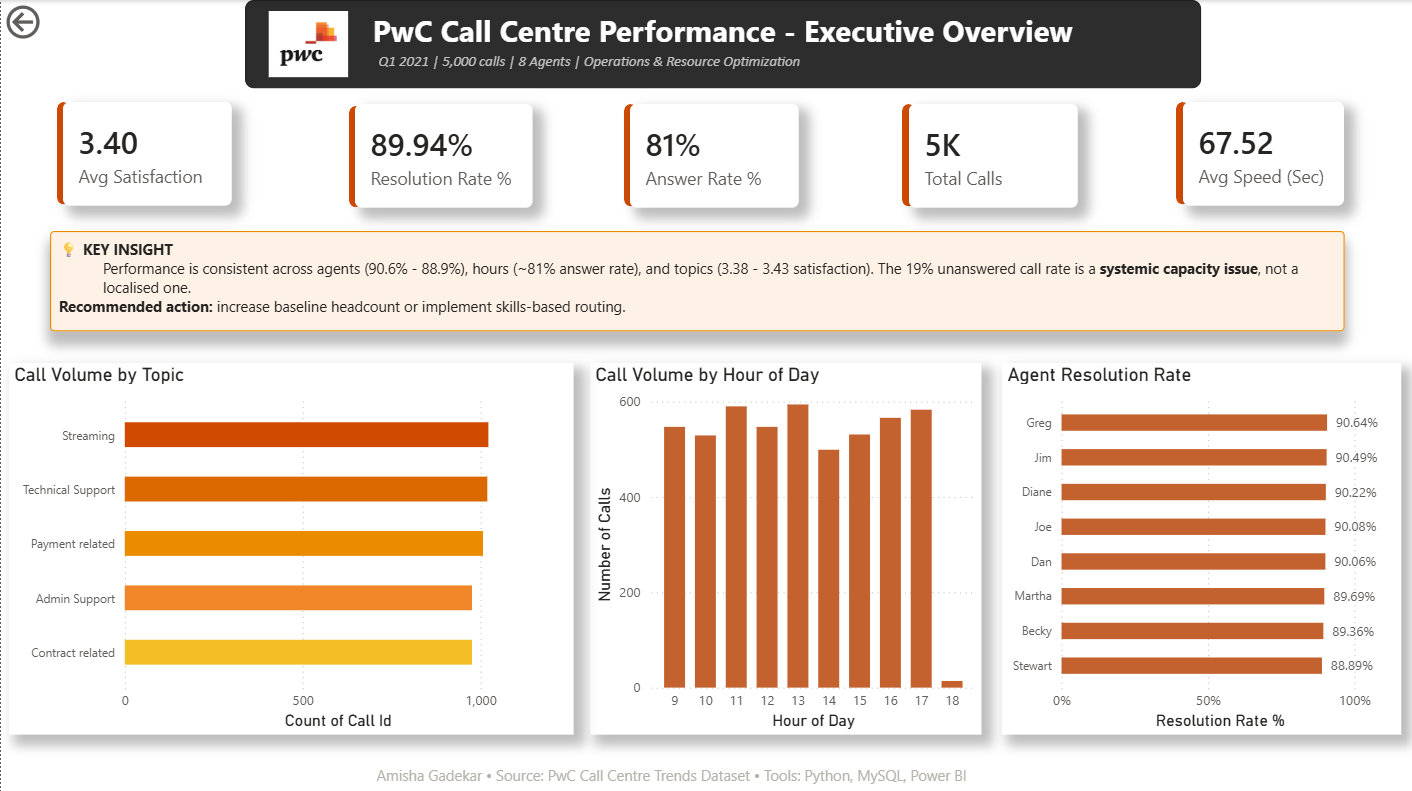

The page's visual inventory and layout, read from the dashboard file:
{"tool":"powerbi","page":{"name":"Executive Overview","canvas":[1280,720],"ordinal":0},"visuals":[{"type":"shape","box":[315.2,96,12.1,91.9],"z":0},{"type":"shape","box":[564.6,93.9,12.1,92.9],"z":1000},{"type":"shape","box":[817.2,93.9,12.1,92.9],"z":2000},{"type":"shape","box":[1065.7,92.9,12.1,92.9],"z":3000},{"type":"shape","box":[50.5,92.9,12.1,93],"z":4000},{"type":"cardVisual","fields":{"Data":["CountNonNull(call_center_cleaned.Call Id)"]},"box":[823.2,93.9,152.5,93.9],"z":5000},{"type":"actionButton","box":[0,0,100,40],"z":6000},{"type":"cardVisual","fields":{"Data":["call_center_cleaned.Answer Rate %"]},"box":[570.7,93.9,152.5,93.9],"z":7000},{"type":"cardVisual","fields":{"Data":["call_center_cleaned.Resolution Rate %"]},"box":[321.2,93.9,160.6,93.9],"z":8000},{"type":"cardVisual","fields":{"Data":["Avg(call_center_cleaned.Satisfaction rating)"]},"box":[56.6,92.9,152.5,93.9],"z":9000},{"type":"cardVisual","fields":{"Data":["Avg(call_center_cleaned.Speed of answer in seconds)"]},"box":[1071.7,92.9,146.5,93.9],"z":10000},{"type":"columnChart","title":"Call Volume by Hour of  Day","fields":{"Category":["call_center_cleaned.call_hour"],"Y":["CountNonNull(call_center_cleaned.Call Id)"]},"box":[534.3,329.3,354.5,337.4],"z":11000},{"type":"barChart","title":"Call Volume by Topic","fields":{"Category":["call_center_cleaned.Topic"],"Y":["CountNonNull(call_center_cleaned.Call Id)"]},"box":[7.1,329.3,512.1,337.4],"z":12000},{"type":"barChart","title":"Agent Resolution Rate","fields":{"Category":["call_center_cleaned.Agent"],"Y":["call_center_cleaned.Resolution Rate %"]},"box":[908.1,329.3,361.6,337.4],"z":13000},{"type":"textbox","box":[221.2,0,866.7,80],"z":14000},{"type":"image","box":[235.4,10.1,85.9,59.6],"z":15000},{"type":"textbox","box":[44.4,209.1,1173.7,90.9],"z":16000},{"type":"textbox","box":[335.4,688.9,561.6,31.3],"z":17000},{"type":"textbox","box":[337.4,40.4,453.5,30.3],"z":18000}]}

Visuals, with their boxes in screenshot pixels (x1, y1, x2, y2), scaled from the page's 1280x720 canvas onto the 1412x791 screenshot:
shape: (left=348, top=105, right=361, bottom=206)
shape: (left=623, top=103, right=636, bottom=205)
shape: (left=901, top=103, right=915, bottom=205)
shape: (left=1176, top=102, right=1189, bottom=204)
shape: (left=56, top=102, right=69, bottom=204)
cardVisual - CountNonNull(call_center_cleaned.Call Id): (left=908, top=103, right=1076, bottom=206)
actionButton: (left=0, top=0, right=110, bottom=44)
cardVisual - call_center_cleaned.Answer Rate %: (left=630, top=103, right=798, bottom=206)
cardVisual - call_center_cleaned.Resolution Rate %: (left=354, top=103, right=531, bottom=206)
cardVisual - Avg(call_center_cleaned.Satisfaction rating): (left=62, top=102, right=231, bottom=205)
cardVisual - Avg(call_center_cleaned.Speed of answer in seconds): (left=1182, top=102, right=1344, bottom=205)
"Call Volume by Hour of  Day" columnChart: (left=589, top=362, right=980, bottom=732)
"Call Volume by Topic" barChart: (left=8, top=362, right=573, bottom=732)
"Agent Resolution Rate" barChart: (left=1002, top=362, right=1401, bottom=732)
textbox: (left=244, top=0, right=1200, bottom=88)
image: (left=260, top=11, right=354, bottom=77)
textbox: (left=49, top=230, right=1344, bottom=330)
textbox: (left=370, top=757, right=990, bottom=790)
textbox: (left=372, top=44, right=872, bottom=78)
